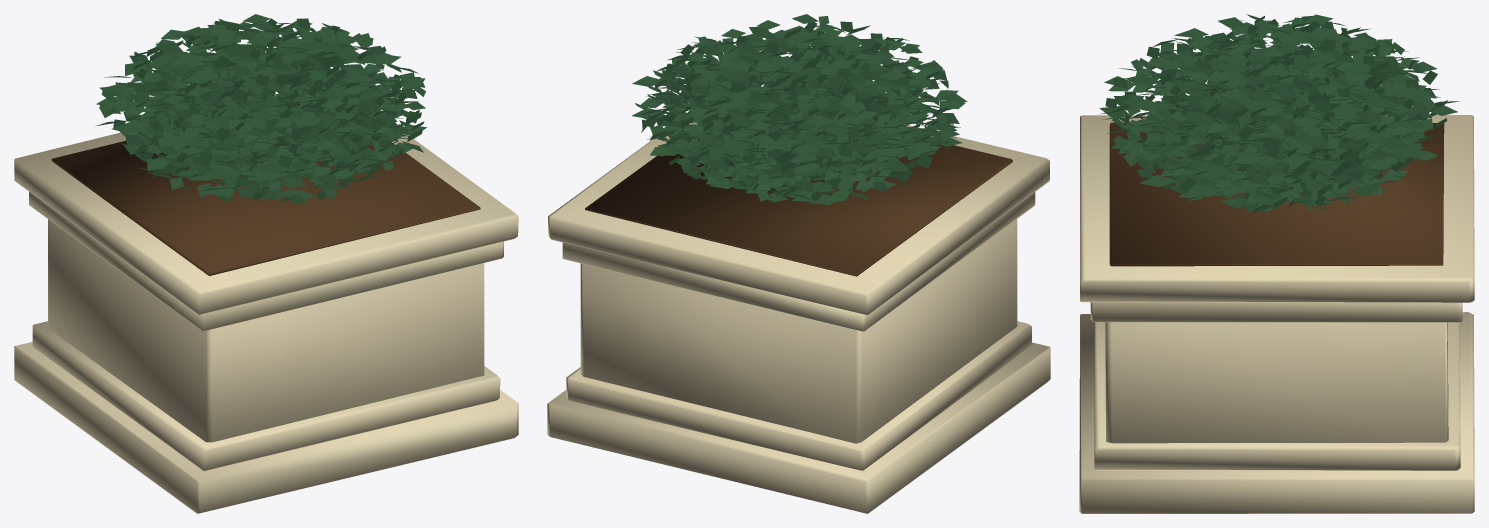
The model's file is planter.glb.
3 renders of one model, left to right at view 1: azimuth 30°, elevation 25°; view 2: azimuth 150°, elevation 25°; view 3: azimuth 270°, elevation 25°, orthographic. The views are drawn at different scales.
Parts seen in each view (by area): view 1: Tapered stone body, Clipped hedge leaves, Soil, Moulded rim.002, Plinth, Moulded rim, Moulded rim.001; view 2: Tapered stone body, Clipped hedge leaves, Soil, Moulded rim.002, Plinth, Moulded rim, Moulded rim.001; view 3: Clipped hedge leaves, Tapered stone body, Soil, Moulded rim.002, Plinth, Moulded rim, Moulded rim.001.
Boxes of the visible parts, bbox=[...] form: Tapered stone body: bbox=[48, 219, 484, 442]; Clipped hedge leaves: bbox=[95, 14, 427, 203]; Soil: bbox=[51, 102, 480, 275]; Moulded rim.002: bbox=[14, 94, 518, 314]; Plinth: bbox=[14, 342, 518, 513]; Moulded rim: bbox=[32, 321, 500, 470]; Moulded rim.001: bbox=[29, 192, 503, 331]; Tapered stone body: bbox=[580, 219, 1017, 443]; Clipped hedge leaves: bbox=[632, 14, 967, 204]; Soil: bbox=[585, 133, 1012, 276]; Moulded rim.002: bbox=[548, 122, 1049, 315]; Plinth: bbox=[547, 342, 1050, 513]; Moulded rim: bbox=[566, 321, 1031, 470]; Moulded rim.001: bbox=[562, 192, 1035, 331]; Clipped hedge leaves: bbox=[1099, 14, 1459, 214]; Tapered stone body: bbox=[1105, 322, 1448, 443]; Soil: bbox=[1109, 122, 1444, 266]; Moulded rim.002: bbox=[1080, 115, 1474, 302]; Plinth: bbox=[1079, 312, 1474, 513]; Moulded rim: bbox=[1094, 322, 1460, 470]; Moulded rim.001: bbox=[1090, 302, 1462, 322].
Size of the model in its own units: 1.39 by 1.5 by 1.39.
Materials: 1 (1 with a texture image).
